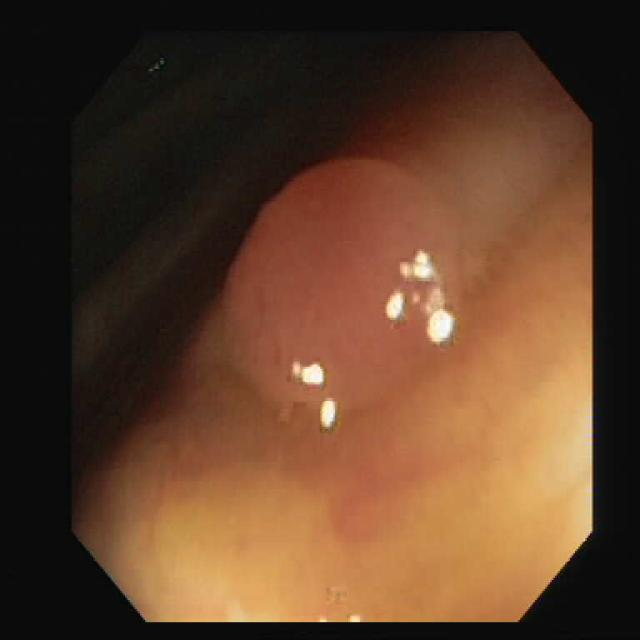tumor: (203, 158, 457, 391)
